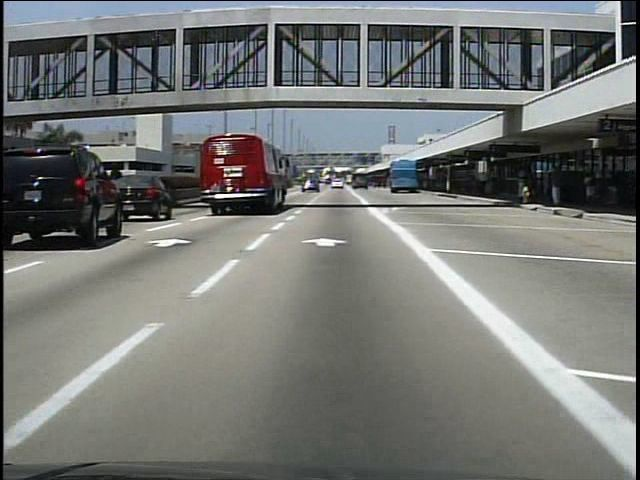person: (581, 169, 599, 213), (475, 169, 486, 193)
